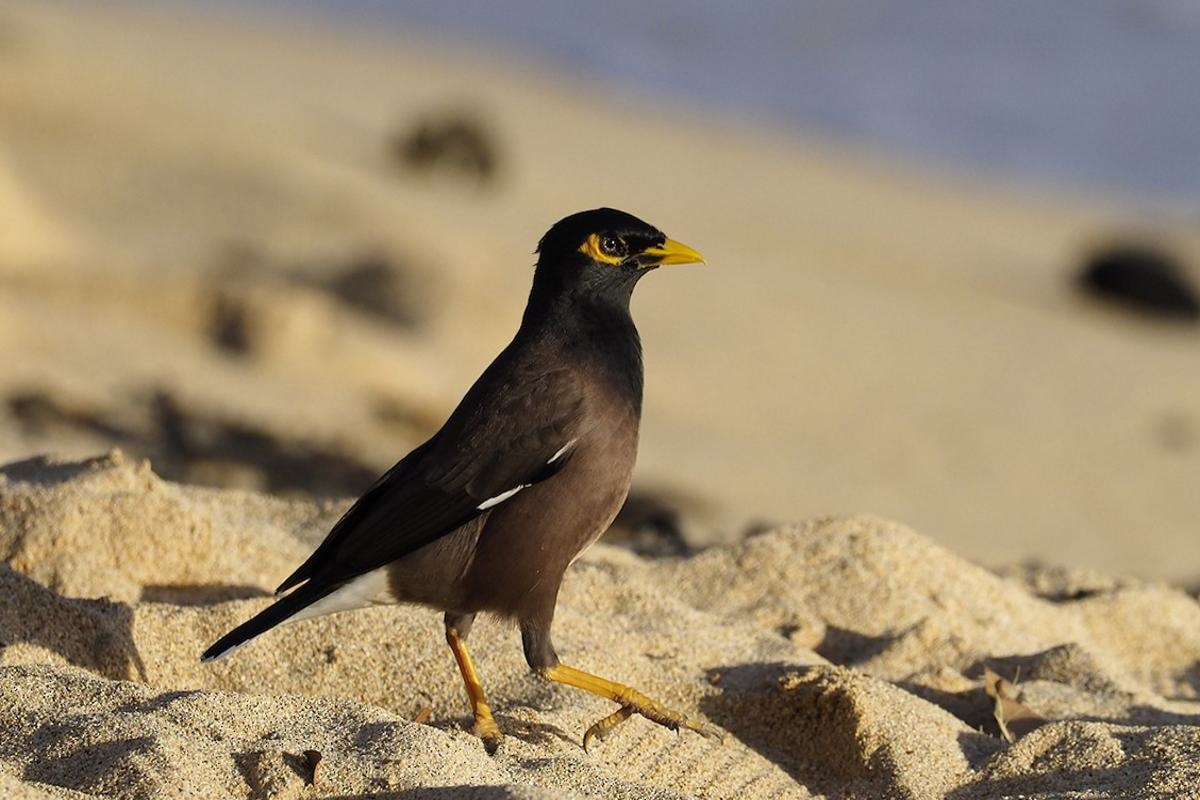myna: (279, 212, 780, 702)
